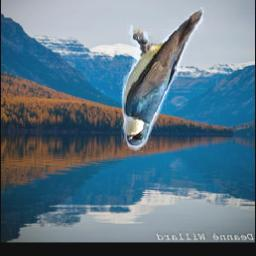Swallow: (120, 7, 207, 152)
